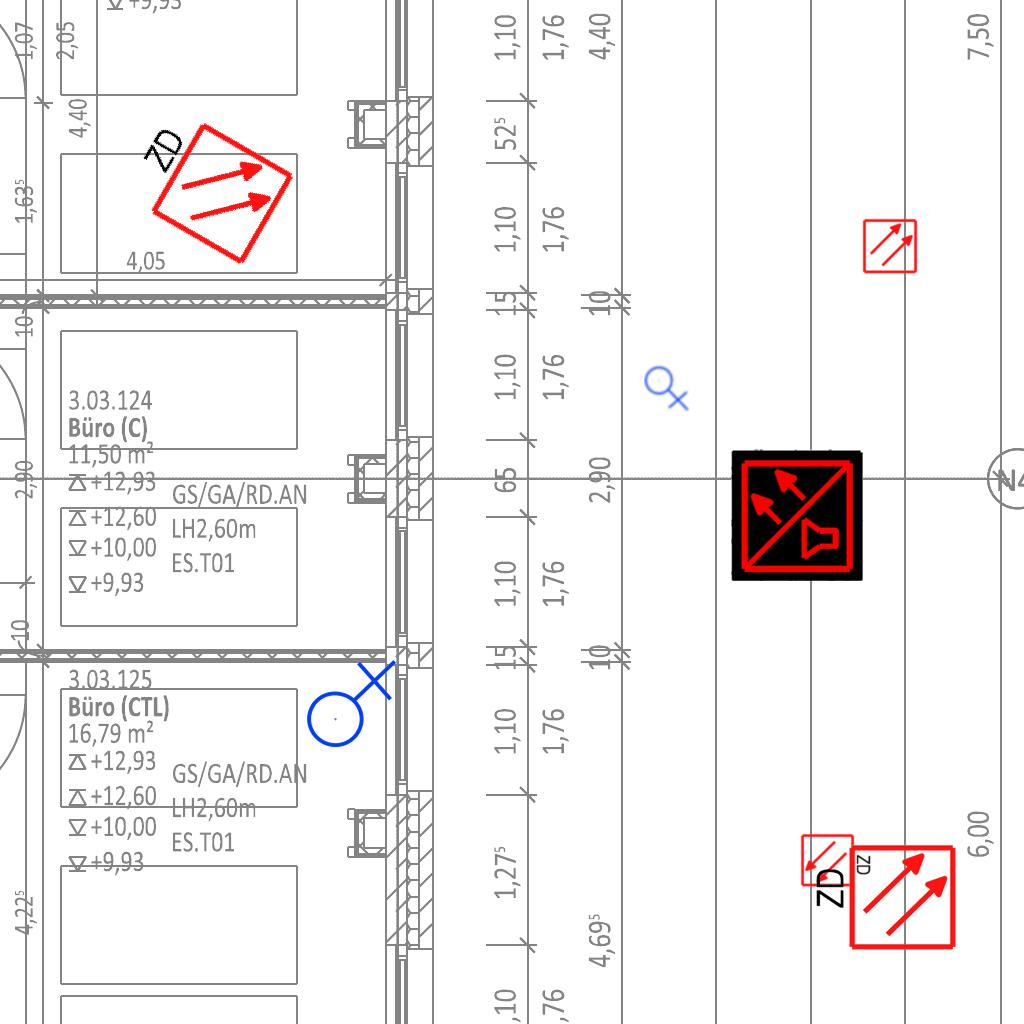Elektroanschluss_allgemein_230V_Geraeteanschlussdose_230V: (298, 655, 397, 749), (644, 362, 691, 411)
OKW_Multisensormelder_(Kombination_optischer_Rauch-Kahlenmonoxid_Waerme-Melder): (731, 449, 863, 581)
RMO_Rauchmelder_optischer: (862, 218, 918, 274)
ZD_Melder_in_Zwischendecke_mit_Revisionsoeffnung_mind_40_x_40_cm: (111, 98, 299, 273), (809, 842, 958, 956), (800, 831, 874, 888)
